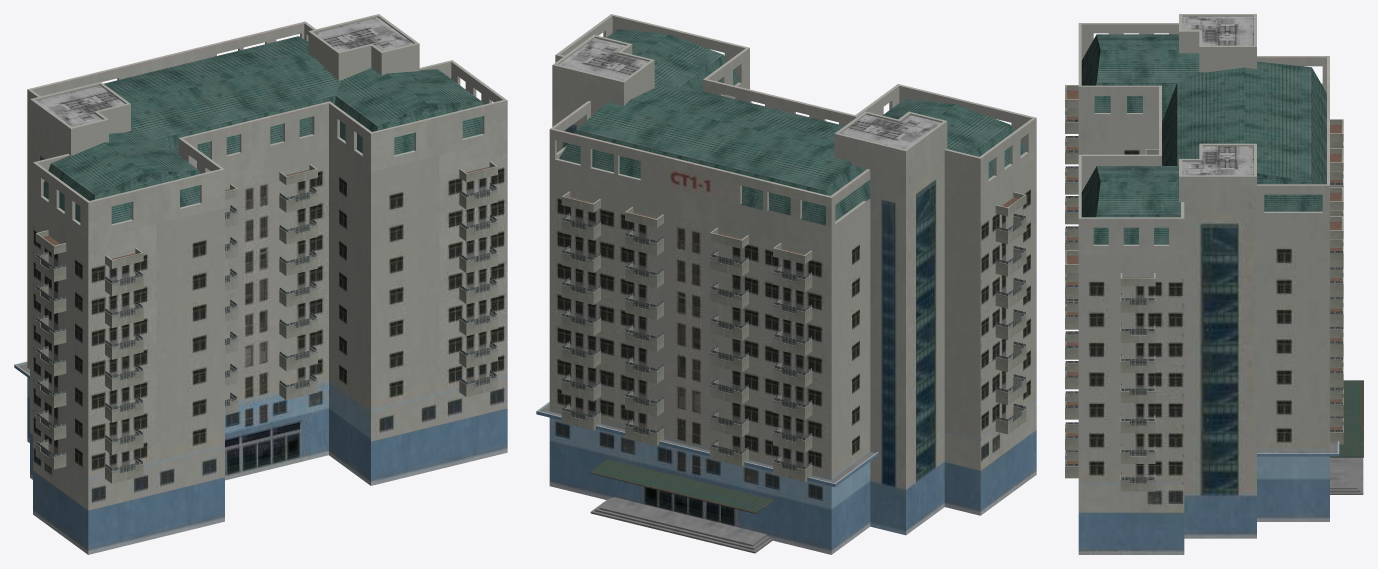
3 views of the same model, side by side, from view 1: azimuth 30°, elevation 25°; view 2: azimuth 150°, elevation 25°; view 3: azimuth 270°, elevation 25° (orthographic). The views are drawn at different scales.
Visible parts, largest first — view 1: HN1359_ChungCuCT1_1MeTri; view 2: HN1359_ChungCuCT1_1MeTri; view 3: HN1359_ChungCuCT1_1MeTri.
Part boxes in pixels (<box>): HN1359_ChungCuCT1_1MeTri: <box>14,14,507,554</box>; HN1359_ChungCuCT1_1MeTri: <box>536,14,1036,554</box>; HN1359_ChungCuCT1_1MeTri: <box>1065,14,1363,554</box>.
Bounding box in the file's own units: 48.68 × 39.7 × 29.71.
1 material, 1 textured.
